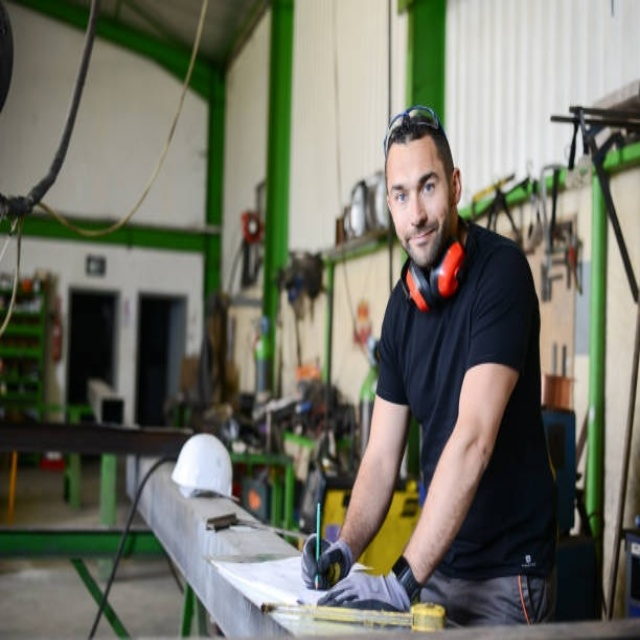Guantes: (316, 565, 416, 609), (301, 535, 353, 590)
Sin_gafas: (387, 165, 444, 210)
Sin_mascara: (403, 220, 441, 259)
